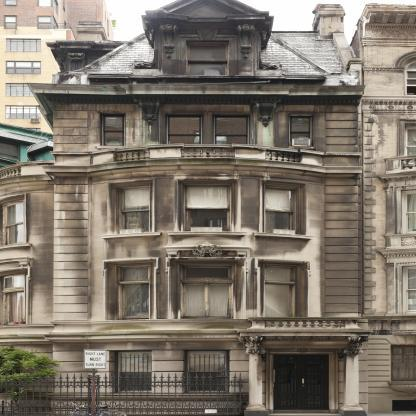Building Outline: (0, 0, 373, 416)
Cornice: (145, 0, 269, 22), (163, 245, 250, 256)
Deco: (186, 241, 229, 257), (253, 102, 278, 127), (138, 101, 163, 126)
Door: (274, 354, 329, 410)
Facade: (54, 85, 362, 415)
Floor: (54, 250, 362, 329), (54, 172, 362, 250)
Floor Slab: (54, 88, 362, 94), (54, 244, 362, 250), (54, 324, 362, 330), (54, 167, 362, 172)
Ground Floor: (54, 329, 363, 415)
Pillar: (340, 336, 370, 410), (237, 336, 266, 410)
Roof: (68, 32, 346, 76)
Sill: (100, 231, 162, 240), (253, 232, 315, 241), (167, 231, 247, 237)
Top Floor: (46, 0, 359, 84)
Window: (181, 264, 234, 319), (183, 183, 231, 231), (185, 350, 229, 393), (116, 265, 149, 320), (265, 265, 297, 319), (116, 184, 150, 234), (265, 185, 298, 234), (115, 351, 151, 393), (187, 41, 229, 76), (166, 116, 203, 153), (213, 116, 250, 153), (100, 114, 125, 146), (289, 117, 312, 147)
dont: (0, 372, 242, 415), (0, 343, 66, 413), (68, 348, 127, 416)
